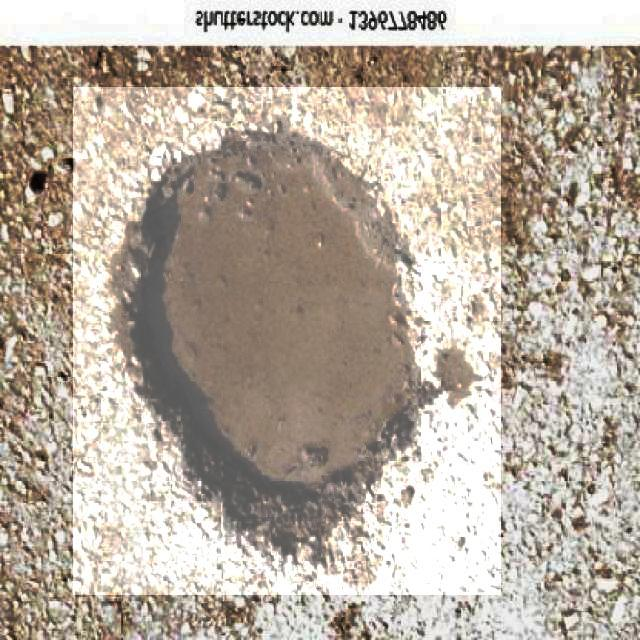pothole: (73, 87, 501, 595)
